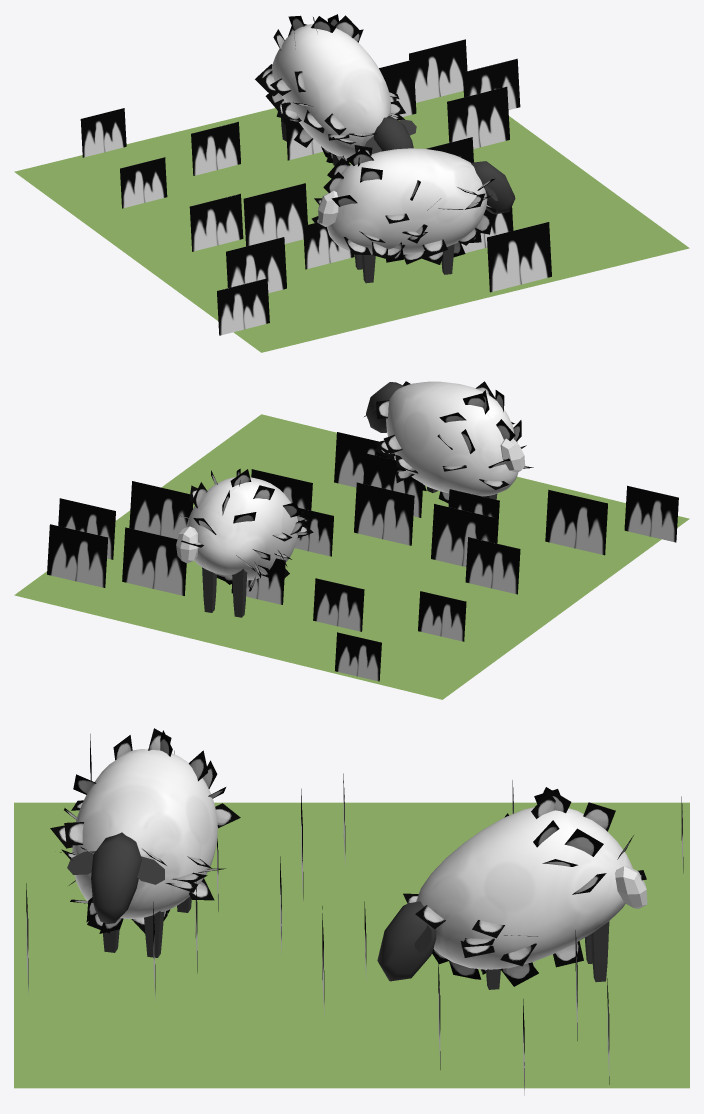
Rendered from sheep.glb.
3 renders of one model, top to bottom at view 1: azimuth 30°, elevation 25°; view 2: azimuth 150°, elevation 25°; view 3: azimuth 270°, elevation 25°, orthographic. The views are drawn at different scales.
Visible parts, largest first — view 1: Plane.108, Cube.017, Cube.021, Plane.235, Plane.240, Plane.247, Plane.110, Plane.239, Plane.238, Plane.237, Plane.248, Plane.112 (+11 smaller); view 2: Plane.108, Cube.017, Cube.021, Plane.232, Plane.239, Plane.110, Plane.246, Plane.247, Plane.240, Plane.238, Plane.237, Plane.248 (+13 smaller); view 3: Plane.108, Cube.021, Cube.017, Cube.016, Cube.020, Cube.019, Cube.015, Plane.109, Cube.022, Plane.156.
Part boxes in pixels (box(x1,y1,x2,y2)): Plane.108: box(14, 91, 689, 352); Cube.017: box(327, 148, 487, 254); Cube.021: box(271, 24, 390, 158); Plane.235: box(487, 222, 551, 292); Plane.240: box(243, 183, 307, 246); Plane.247: box(447, 86, 509, 148); Plane.110: box(409, 39, 467, 102); Plane.239: box(226, 237, 286, 293); Plane.238: box(189, 193, 243, 251); Plane.237: box(217, 278, 269, 335); Plane.248: box(191, 121, 240, 175); Plane.112: box(120, 157, 167, 208); Plane.108: box(14, 414, 689, 699); Cube.017: box(386, 381, 518, 496); Cube.021: box(186, 477, 297, 580); Plane.232: box(122, 527, 186, 595); Plane.239: box(545, 489, 607, 555); Plane.110: box(47, 524, 107, 587); Plane.246: box(354, 482, 414, 545); Plane.247: box(129, 481, 193, 539); Plane.240: box(431, 504, 497, 566); Plane.238: box(465, 537, 520, 594); Plane.237: box(624, 485, 678, 542); Plane.248: box(313, 578, 364, 631); Plane.108: box(14, 802, 689, 1088); Cube.021: box(416, 807, 632, 969); Cube.017: box(72, 749, 217, 919); Cube.016: box(91, 832, 141, 923); Cube.020: box(377, 901, 436, 981); Cube.019: box(480, 921, 609, 989); Cube.015: box(103, 896, 191, 957); Plane.109: box(67, 851, 164, 884); Cube.022: box(615, 866, 647, 908); Plane.156: box(564, 828, 603, 856).
Size of the model in its own units: 2.16 by 0.6252 by 2.
Materials: 5 (3 with a texture image).
